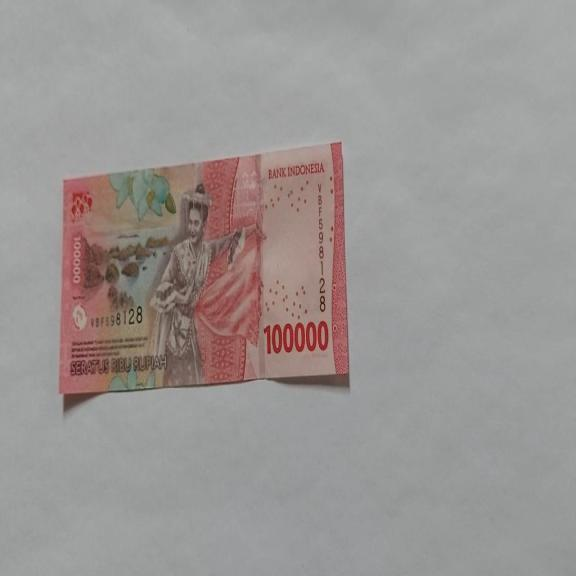Kertas: (58, 140, 350, 398), (263, 318, 329, 356)
